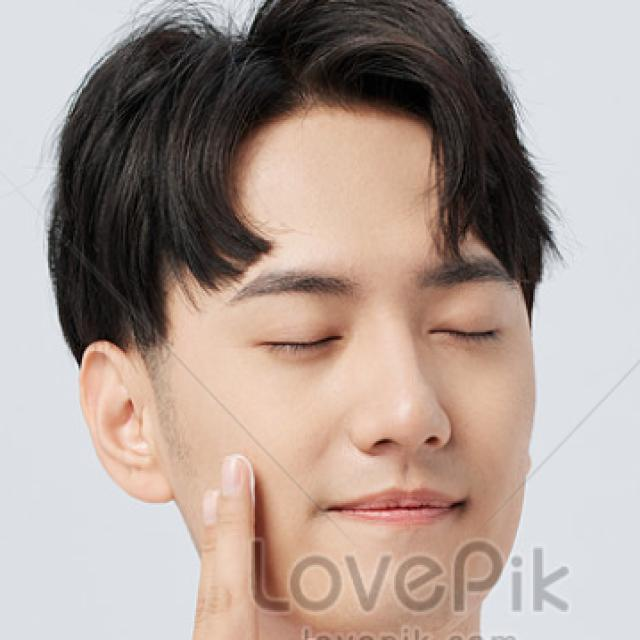close: (219, 260, 367, 375), (404, 244, 530, 366)
